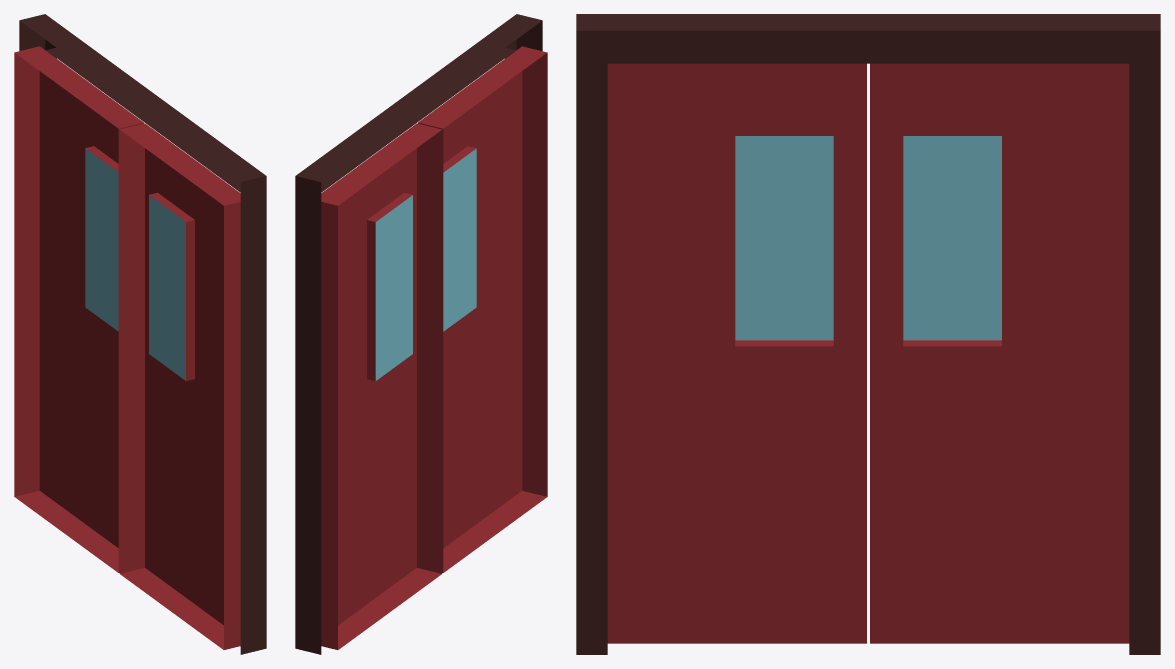
File: doorfix.fbx
3 renders of one model, left to right at view 1: azimuth 30°, elevation 25°; view 2: azimuth 150°, elevation 25°; view 3: azimuth 270°, elevation 25°, orthographic. The views are drawn at different scales.
Parts seen in each view (by area): view 1: Door 1, Door 2, Frame; view 2: Door 2, Door 1, Frame; view 3: Door 1, Door 2, Frame.
Part boxes in pixels (bbox=[...]): Door 1: bbox=[119, 123, 240, 649]; Door 2: bbox=[14, 46, 143, 572]; Frame: bbox=[19, 14, 266, 654]; Door 2: bbox=[321, 123, 442, 649]; Door 1: bbox=[418, 46, 547, 572]; Frame: bbox=[295, 14, 542, 654]; Door 1: bbox=[607, 63, 866, 643]; Door 2: bbox=[870, 63, 1129, 643]; Frame: bbox=[576, 14, 1160, 654].
Bounding box in the file's own units: 26.55 × 326 × 277.
